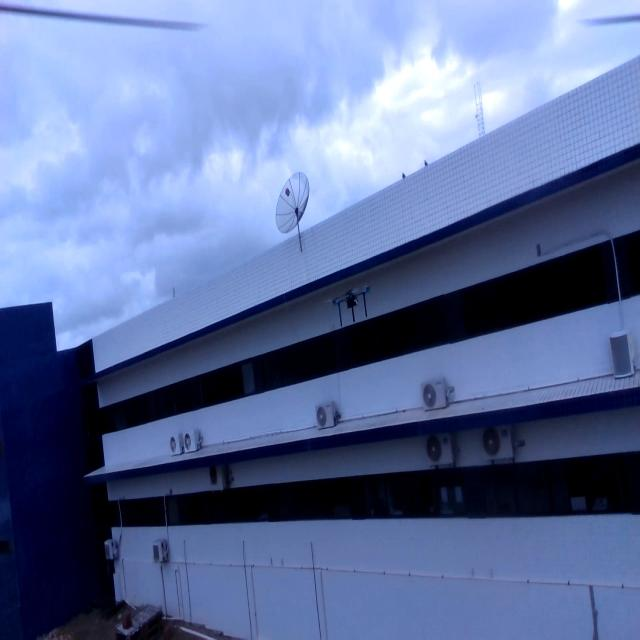-uav-: (329, 275, 378, 335)
